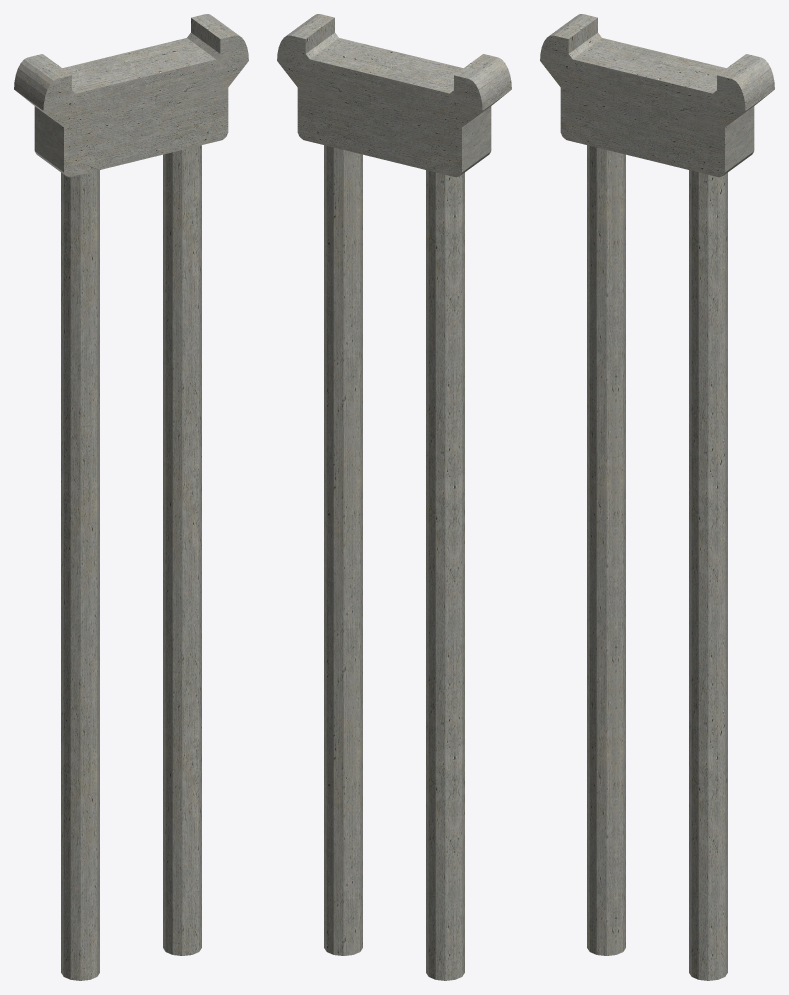
Rendered from thm_corl_imprv_bridge_insert_s02_l0.fbx.
3 views of the same model, side by side, from view 1: azimuth 30°, elevation 25°; view 2: azimuth 150°, elevation 25°; view 3: azimuth 330°, elevation 25° (orthographic).
Visible parts, largest first — view 1: mesh_node; view 2: mesh_node; view 3: mesh_node.
Boxes of the visible parts, x1,y1,x2,y2 form: mesh_node: [14, 14, 248, 980]; mesh_node: [277, 14, 511, 980]; mesh_node: [540, 14, 774, 980].
Size of the model in its own units: 8.07 by 34.27 by 2.
1 material, 1 textured.
